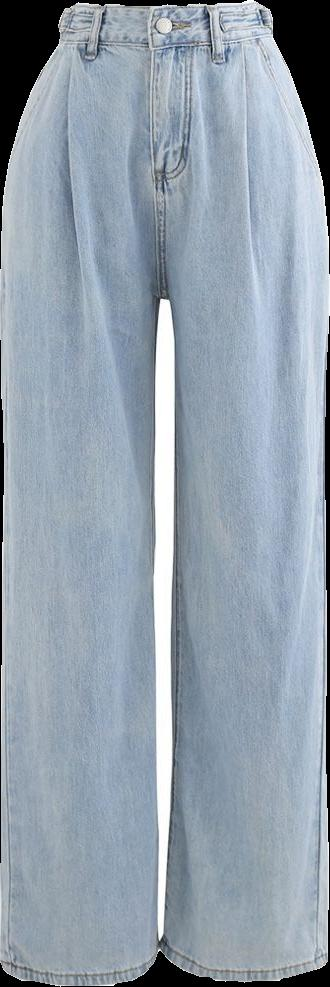Hemline: (159, 942, 328, 985), (0, 949, 161, 986)
Pantleg: (159, 0, 329, 981), (0, 2, 161, 983)
Waistline: (59, 25, 273, 50), (67, 0, 265, 12)
